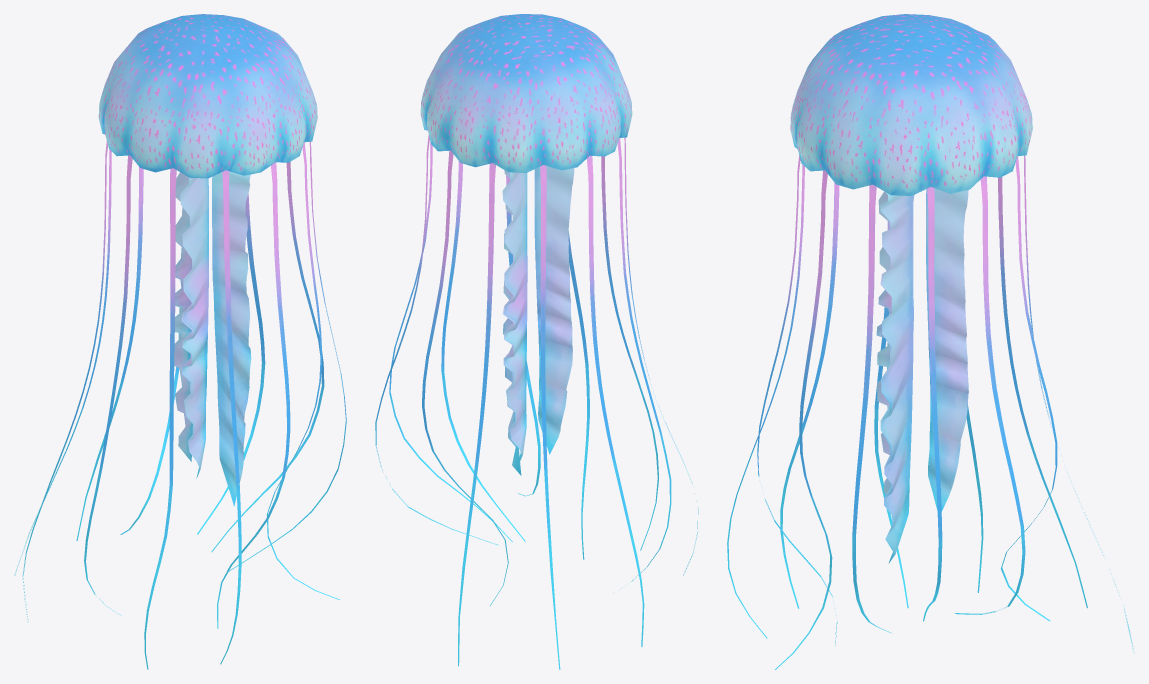
Rendered from jelly.glb.
3 views of the same model, side by side, from view 1: azimuth 30°, elevation 25°; view 2: azimuth 150°, elevation 25°; view 3: azimuth 270°, elevation 25° (orthographic). The views are drawn at different scales.
Visible parts, largest first — view 1: jellyfish.1; view 2: jellyfish.1; view 3: jellyfish.1.
Boxes of the visible parts, x1=… form: jellyfish.1: x1=14, y1=14, x2=346, y2=669; jellyfish.1: x1=375, y1=14, x2=698, y2=669; jellyfish.1: x1=727, y1=14, x2=1133, y2=669.
Bounding box in the file's own units: 1.64 × 3.23 × 1.85.
1 material, 1 textured.
